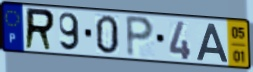0: (94, 14, 121, 56)
4: (168, 18, 193, 62)
9: (58, 11, 81, 52)
A: (195, 23, 230, 64)
P: (125, 13, 156, 59)
R: (23, 6, 57, 52)
